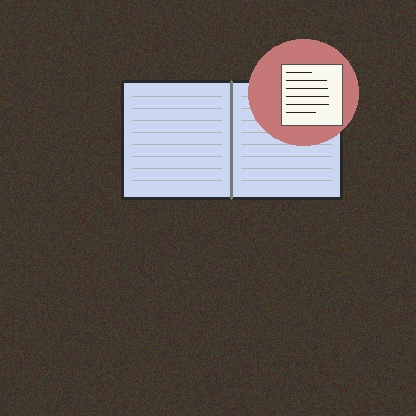book: (122, 81, 341, 198)
exam_chit: (281, 64, 342, 125)
